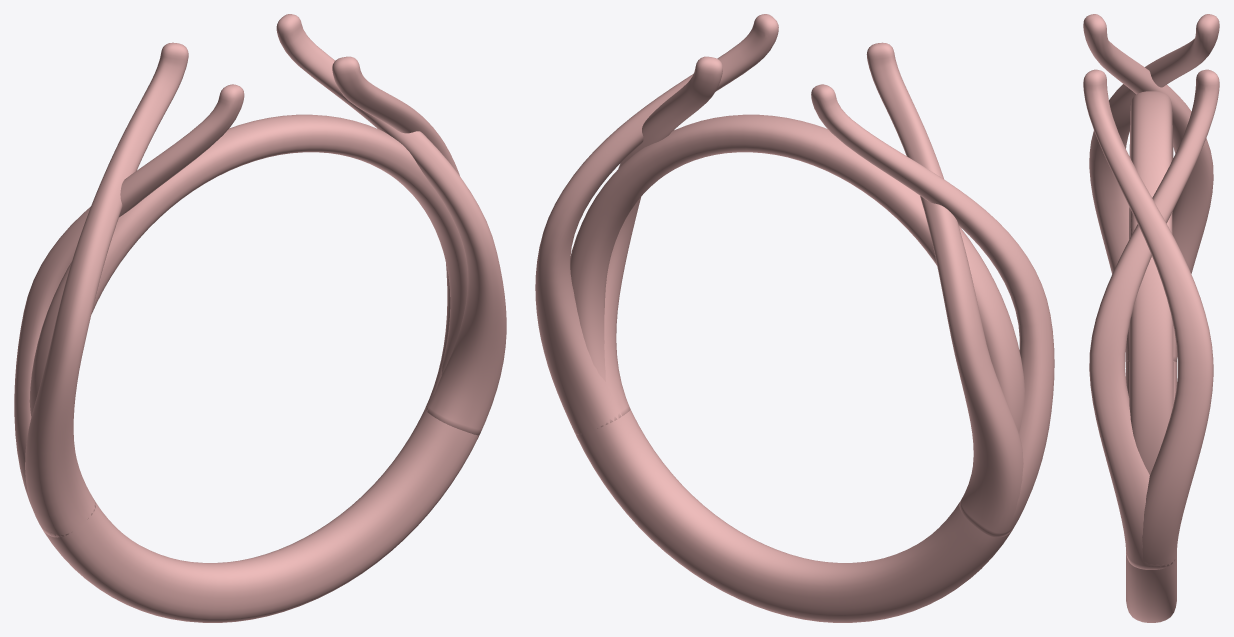
Rendered from TWISTED.glb.
3 views of the same model, side by side, from view 1: azimuth 30°, elevation 25°; view 2: azimuth 150°, elevation 25°; view 3: azimuth 270°, elevation 25° (orthographic).
Visible parts, largest first — view 1: twisted; view 2: twisted; view 3: twisted.
Part boxes in pixels (<box>): twisted: <box>14,14,506,622</box>; twisted: <box>535,14,1054,622</box>; twisted: <box>1083,14,1219,622</box>.
Bounding box in the file's own units: 15.97 × 17.91 × 4.
